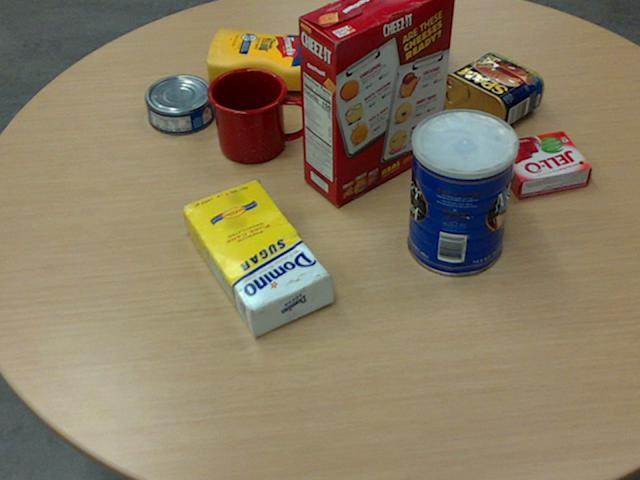cracker_box: (297, 0, 455, 204)
gelatin_box: (493, 129, 591, 196)
large_marker: (371, 22, 390, 111)
master_chef_can: (407, 108, 517, 276)
mug: (206, 67, 308, 163)
mustard_bottle: (206, 28, 359, 90)
potted_meat_can: (438, 52, 542, 136)
sugar_box: (178, 178, 333, 337)
tomato_soup_can: (380, 0, 433, 74)
tuna_fish_can: (144, 73, 214, 133)
